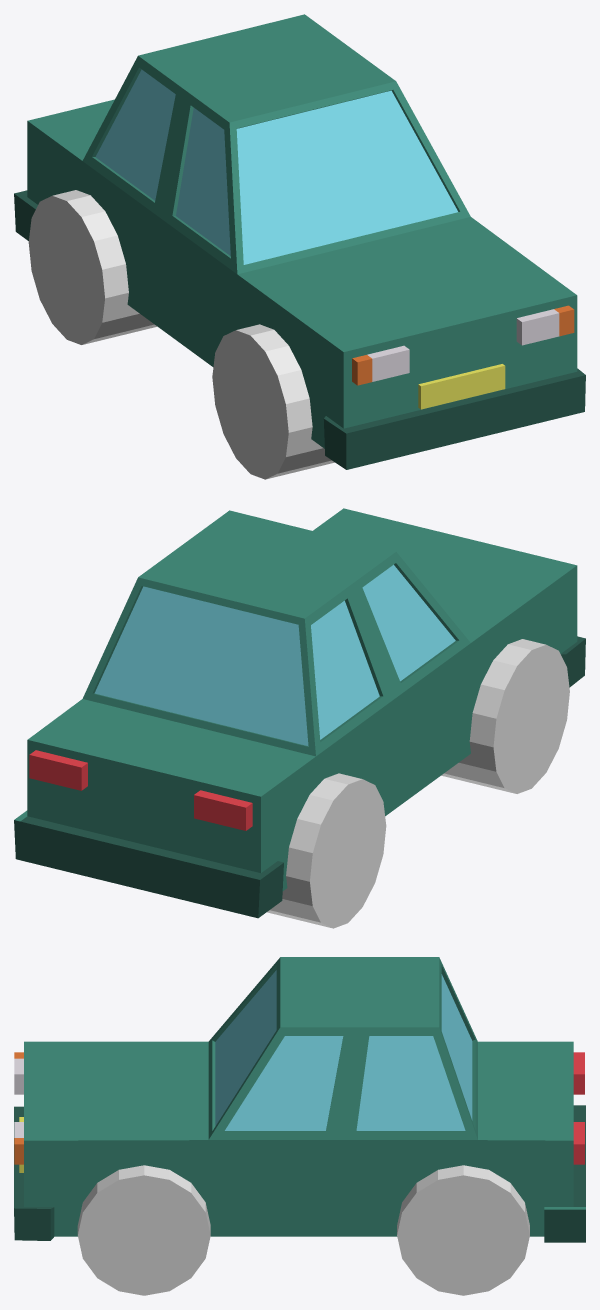
File: car_colored.fbx
The picture shows the model from 3 angles, top to bottom: view 1: azimuth 30°, elevation 25°; view 2: azimuth 150°, elevation 25°; view 3: azimuth 270°, elevation 25°; orthographic projection. The views are drawn at different scales.
Parts seen in each view (by area): view 1: Cube, Cylinder.003, Cylinder, Cube.001, Cube.002; view 2: Cube, Cylinder, Cylinder.003, Cube.003; view 3: Cube, Cylinder, Cylinder.003, Cube.003, Cube.001.
Boxes of the visible parts, box(x1,y1,x2,y2) form: Cube: box(14, 14, 585, 469); Cylinder.003: box(28, 190, 156, 344); Cylinder: box(212, 324, 334, 479); Cube.001: box(352, 305, 574, 385); Cube.002: box(418, 364, 505, 409); Cube: box(14, 508, 585, 918); Cylinder: box(441, 639, 569, 793); Cylinder.003: box(267, 773, 386, 928); Cube.003: box(29, 750, 252, 830); Cube: box(14, 957, 585, 1242); Cylinder: box(77, 1165, 210, 1295); Cylinder.003: box(397, 1165, 529, 1295); Cube.003: box(573, 1052, 584, 1164); Cube.001: box(14, 1052, 23, 1164).
Size of the model in its own units: 326 by 312 by 661.
